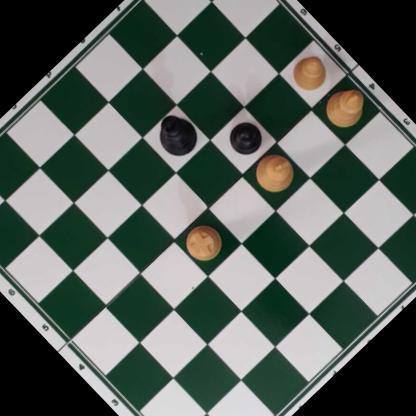black-king: (147, 108, 205, 165)
black-pawn: (221, 114, 268, 161)
white-bishop: (317, 79, 374, 135)
white-king: (246, 145, 304, 202)
white-pawn: (285, 50, 333, 98)
white-rook: (178, 218, 228, 268)
